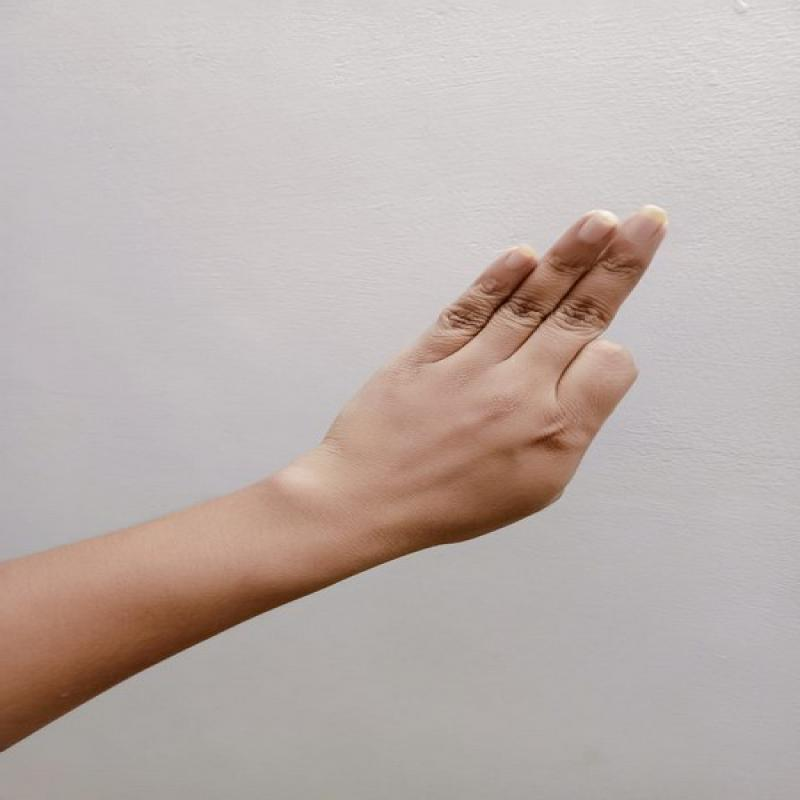Mudraakhyam: (326, 185, 685, 561)
